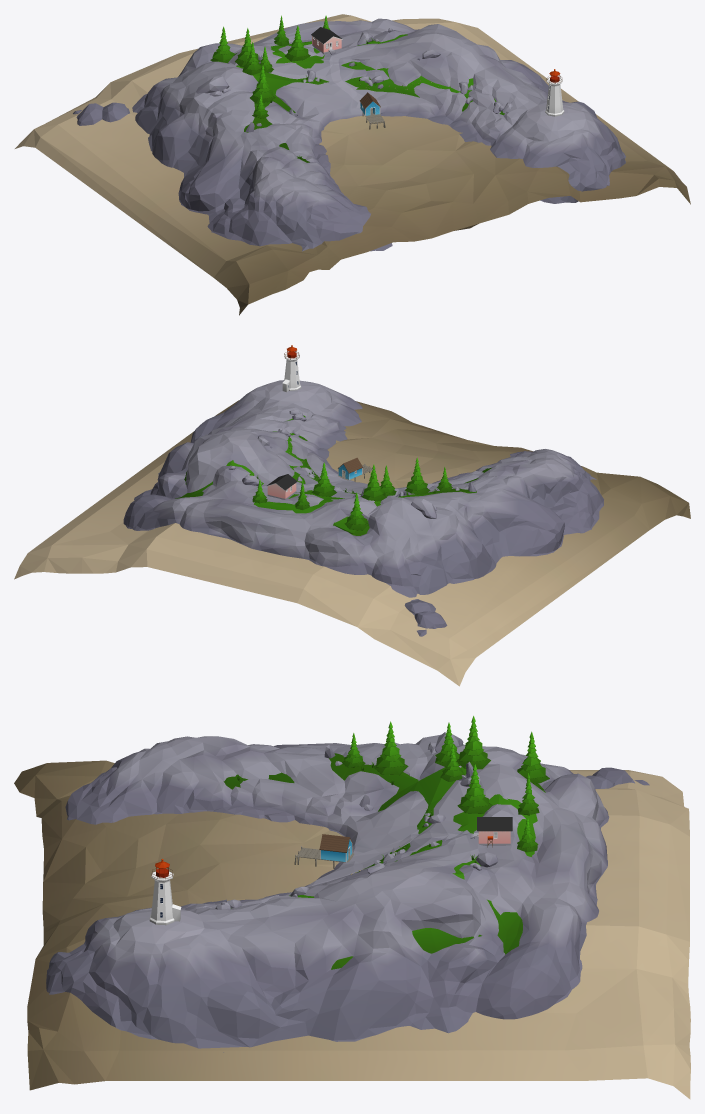
File: island.glb
3 renders of one model, top to bottom at view 1: azimuth 30°, elevation 25°; view 2: azimuth 150°, elevation 25°; view 3: azimuth 270°, elevation 25°, orthographic. The views are drawn at different scales.
Visible parts, largest first — view 1: island.rock, island.sand, island.grass, lighthouse; view 2: island.rock, island.sand, island.grass, lighthouse; view 3: island.rock, island.sand, island.grass, lighthouse, pine tree.004, pine tree, pine tree.008, pine tree.002.
Boxes of the visible parts, bbox=[...] form: island.rock: bbox=[73, 18, 625, 251]; island.sand: bbox=[15, 14, 690, 315]; island.grass: bbox=[234, 34, 504, 162]; lighthouse: bbox=[545, 69, 564, 116]; island.rock: bbox=[123, 380, 603, 636]; island.sand: bbox=[14, 400, 690, 686]; island.grass: bbox=[175, 415, 491, 535]; lighthouse: bbox=[282, 345, 301, 392]; island.rock: bbox=[46, 734, 649, 1052]; island.sand: bbox=[14, 760, 690, 1099]; island.grass: bbox=[223, 753, 545, 969]; lighthouse: bbox=[149, 859, 181, 925]; pine tree.004: bbox=[373, 721, 408, 775]; pine tree: bbox=[456, 716, 490, 769]; pine tree.008: bbox=[457, 764, 492, 813]; pine tree.002: bbox=[517, 731, 549, 783].
Bounding box in the file's own units: 137 × 38.5 × 125.
Materials: 2 (2 with a texture image).
